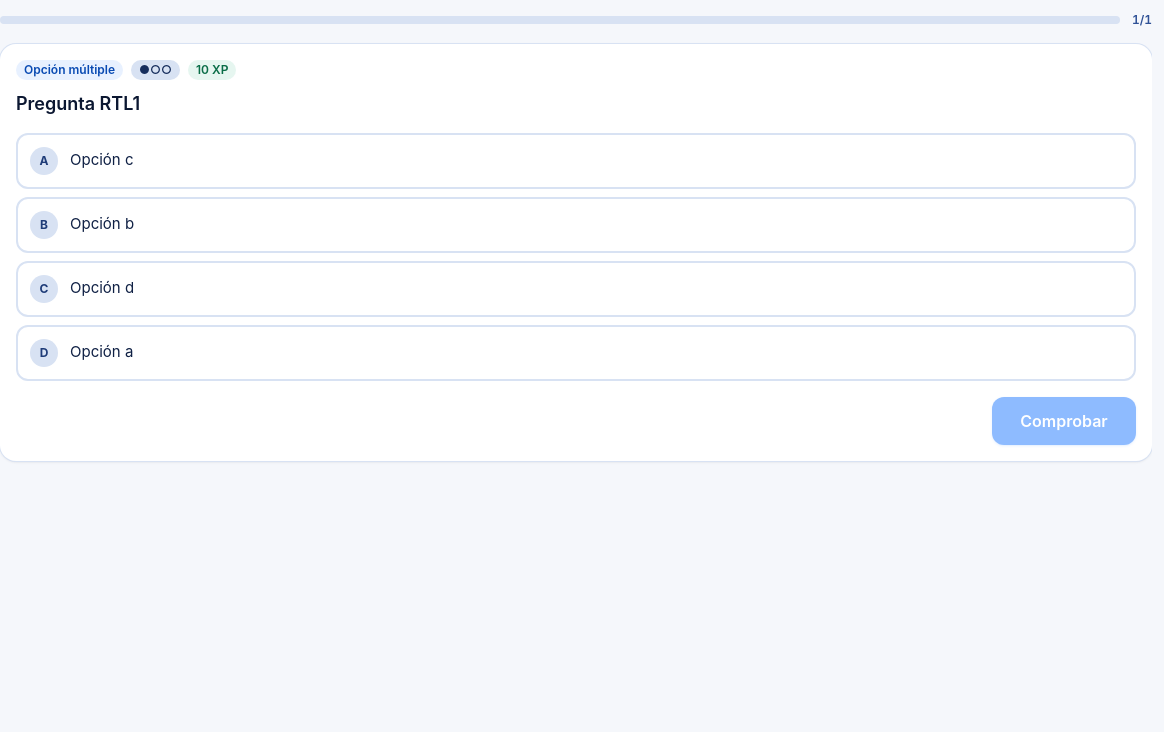
Test: ExerciseRunner (React Testing Library) › keeps the option order stable across re-render, selection and feedback; grades by ID
Note: select the correct option wherever it landed
Click the radio button labelled "D Opción a".
click(102, 351)  # box [16,325,1136,381]
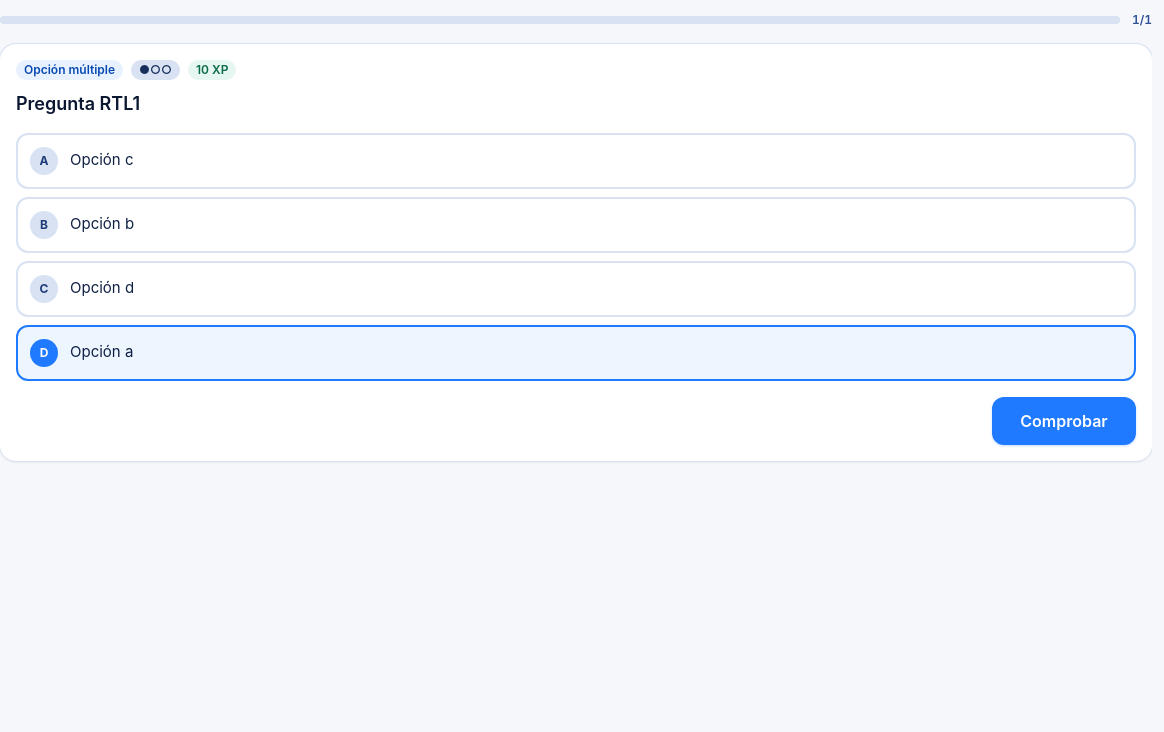
Now the radio button labelled "D Opción a" is checked, box [16,325,1136,381]
Click the button "Comprobar".
click(1064, 421)  # box [992,397,1136,445]
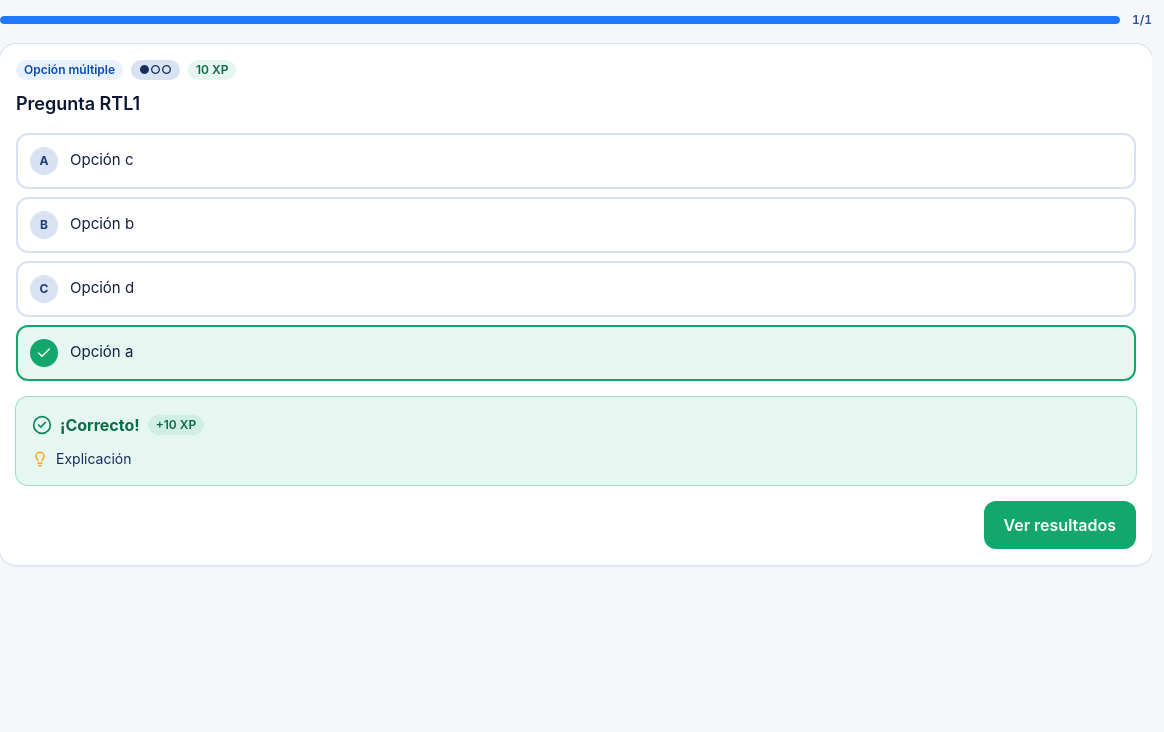
Now the text "¡Correcto!" is shown, box [60,413,140,437]
